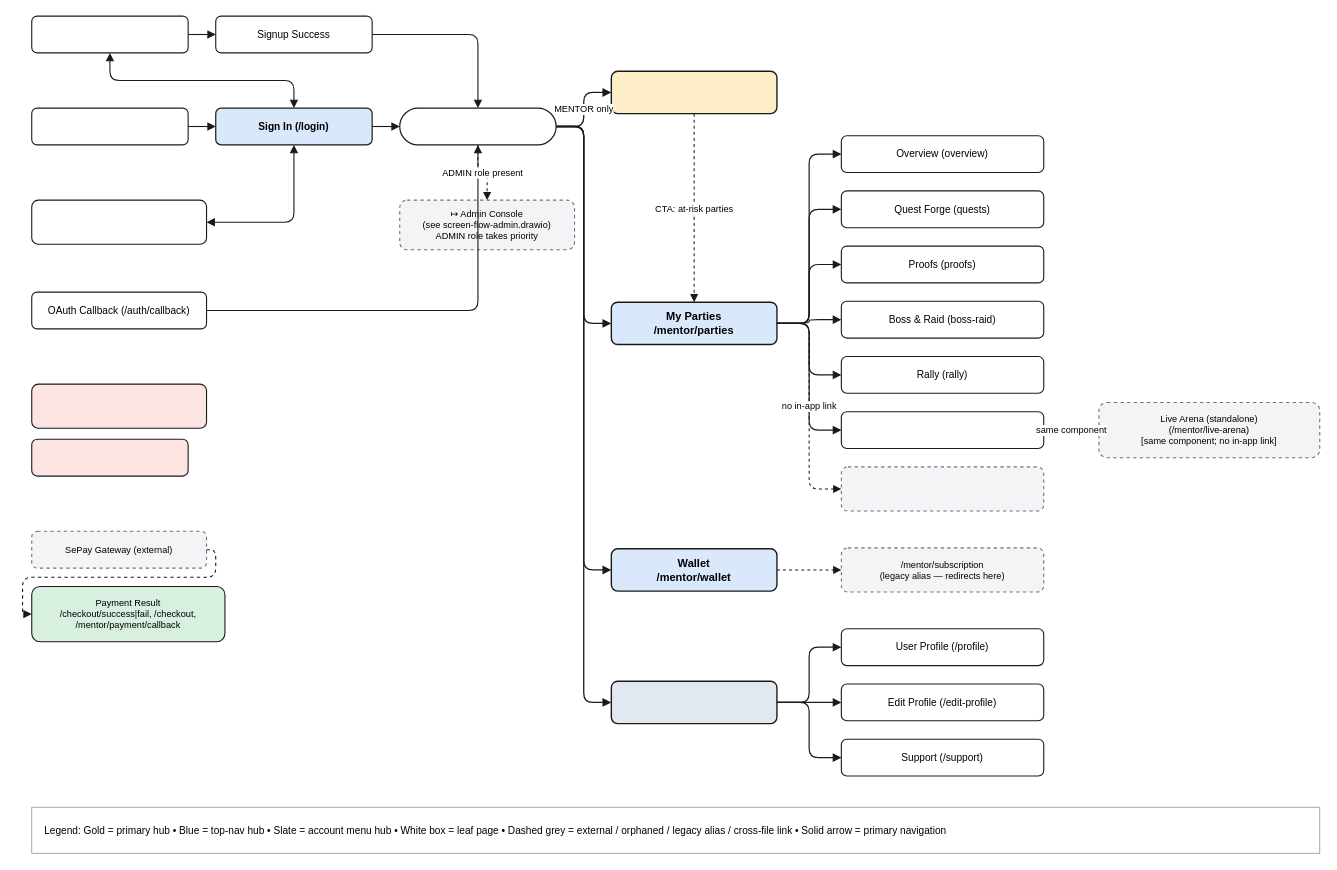
Some shapes in this 1337 by 870 pixel diagram are drawn without their labels. Each missing label, with the centre of its shape:
"Account Menu" goes at (693,702).
"Dashboard /mentor/dashboard" goes at (693,92).
"Forgot Password (/reset-password) — emails a new temp password" goes at (119,221).
"Landing Page (/)" goes at (109,126).
"Live Arena (live-arena)" goes at (942,430).
"Not Found (404)" goes at (109,457).
"Question Bank (/mentor/question-bank) [no in-app link — direct URL only]" goes at (942,488).
"Role-Based Redirect ADMIN > MENTOR > /home" goes at (477,126).
"Sign Up (/signup)" goes at (109,34).
"Unauthorized (/unauthorized) — role check failed on any route" goes at (119,405).
